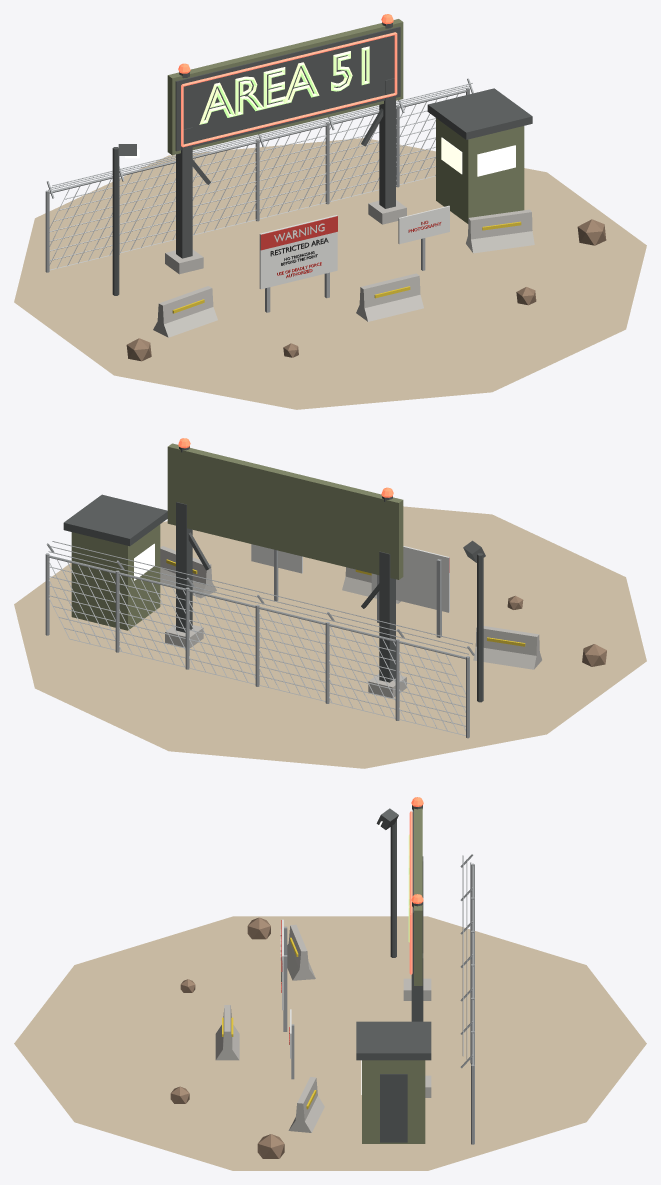
Rendered from area51Sign.glb.
3 views of the same model, one above another, from view 1: azimuth 30°, elevation 25°; view 2: azimuth 150°, elevation 25°; view 3: azimuth 270°, elevation 25° (orthographic). The views are drawn at different scales.
Parts seen in each view (by area): view 1: A51_Ground, A51_GantryBoard, A51_ChainLink, A51_Booth, A51_GantryBoardFrame, A51_Neon_AREA51, A51_BoothRoof, A51_WarnPanel, A51_Barrier_1, A51_Barrier_2, A51_Barrier_0, A51_GantryLeg_-1 (+14 smaller); view 2: A51_Ground, A51_GantryBoardFrame, A51_ChainLink, A51_Booth, A51_BoothRoof, A51_WarnPanel, A51_Barrier_0, A51_GantryLeg_-1, A51_GantryLeg_1, A51_FenceRail, A51_Barrier_1, A51_LightPole (+7 smaller); view 3: A51_Ground, A51_Booth, A51_BoothRoof, A51_BoothDoor, A51_GantryBoardFrame, A51_Barrier_1, A51_Barrier_0, A51_Barrier_2, A51_LightPole, A51_Rock_1, A51_GantryLeg_1, A51_FenceRail.
Boxes of the visible parts, bbox=[...] form: A51_Ground: bbox=[14, 138, 646, 409]; A51_GantryBoard: bbox=[175, 26, 400, 151]; A51_ChainLink: bbox=[49, 94, 458, 270]; A51_Booth: bbox=[436, 118, 524, 223]; A51_GantryBoardFrame: bbox=[167, 19, 403, 155]; A51_Neon_AREA51: bbox=[199, 46, 369, 124]; A51_BoothRoof: bbox=[427, 88, 532, 139]; A51_WarnPanel: bbox=[259, 215, 337, 289]; A51_Barrier_1: bbox=[466, 209, 534, 253]; A51_Barrier_2: bbox=[356, 273, 423, 321]; A51_Barrier_0: bbox=[153, 286, 217, 337]; A51_GantryLeg_-1: bbox=[176, 127, 192, 258]; A51_Ground: bbox=[14, 506, 646, 768]; A51_GantryBoardFrame: bbox=[167, 443, 403, 579]; A51_ChainLink: bbox=[49, 559, 465, 735]; A51_Booth: bbox=[71, 524, 160, 630]; A51_BoothRoof: bbox=[63, 494, 167, 546]; A51_WarnPanel: bbox=[371, 546, 449, 612]; A51_Barrier_0: bbox=[473, 626, 541, 669]; A51_GantryLeg_-1: bbox=[379, 551, 395, 682]; A51_GantryLeg_1: bbox=[176, 502, 192, 632]; A51_FenceRail: bbox=[48, 555, 465, 659]; A51_Barrier_1: bbox=[160, 546, 216, 598]; A51_LightPole: bbox=[477, 553, 483, 702]; A51_Ground: bbox=[14, 916, 646, 1170]; A51_Booth: bbox=[362, 1060, 425, 1143]; A51_BoothRoof: bbox=[356, 1021, 431, 1060]; A51_BoothDoor: bbox=[380, 1074, 407, 1142]; A51_GantryBoardFrame: bbox=[414, 808, 422, 985]; A51_Barrier_1: bbox=[288, 1077, 324, 1132]; A51_Barrier_0: bbox=[287, 924, 315, 980]; A51_Barrier_2: bbox=[215, 1005, 239, 1060]; A51_LightPole: bbox=[390, 820, 396, 957]; A51_Rock_1: bbox=[257, 1134, 284, 1158]; A51_GantryLeg_1: bbox=[411, 953, 423, 1021]; A51_FenceRail: bbox=[471, 866, 473, 1064].
Bounding box in the file's own units: 15.22 × 5.76 × 16.
